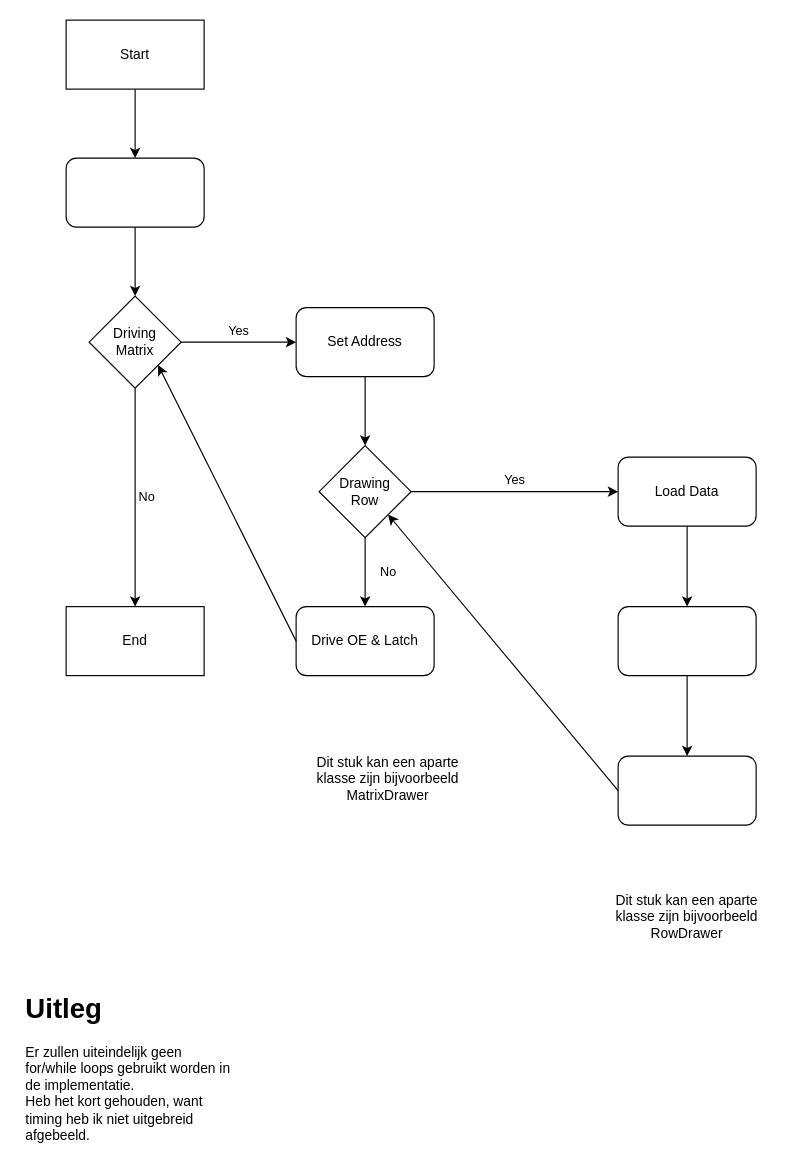
Some shapes in this 798 by 1167 pixel diagram are drawn without their labels. The centre of each missing label's shape, as x and y in pixels:
Set Clock High After A Certain Time: (x=686, y=640)
Set Clock Low After A Certain Time: (x=686, y=790)
Setup: (x=134, y=192)
